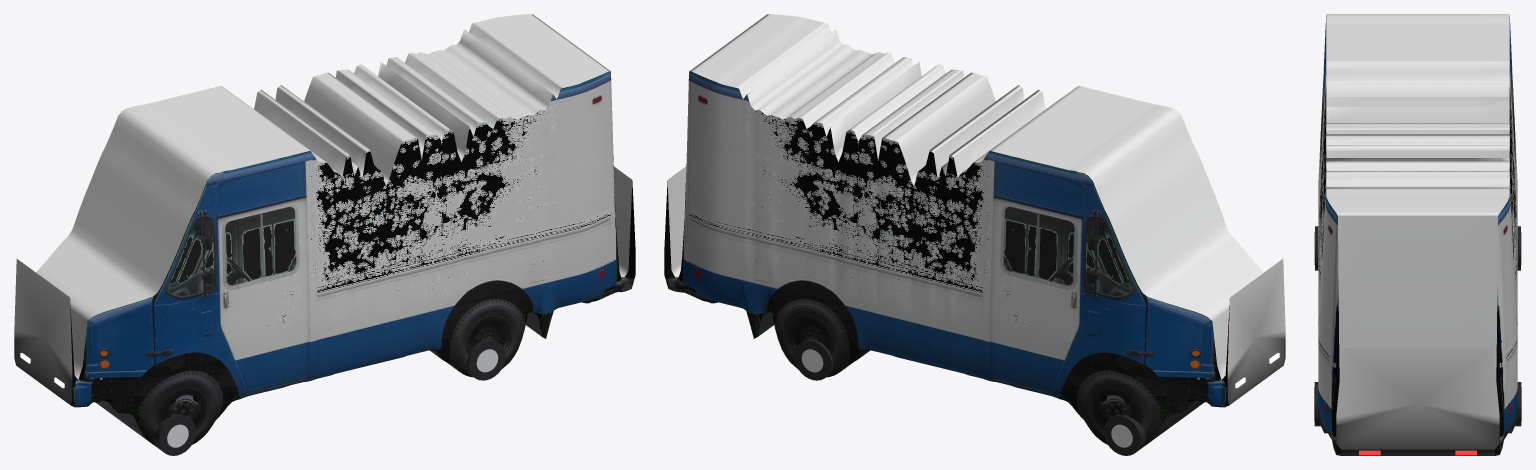
Rendered from mail.glb.
The picture shows the model from 3 angles, left to right: view 1: azimuth 30°, elevation 25°; view 2: azimuth 150°, elevation 25°; view 3: azimuth 270°, elevation 25°; orthographic projection. The views are drawn at different scales.
Visible parts, largest first — view 1: mail; view 2: mail; view 3: mail.
Boxes of the visible parts, bbox=[...] form: mail: bbox=[14, 14, 635, 455]; mail: bbox=[664, 14, 1285, 455]; mail: bbox=[1314, 14, 1521, 455].
Bounding box in the file's own units: 4.78 × 2.21 × 1.5.
Materials: 8 (2 with a texture image).
